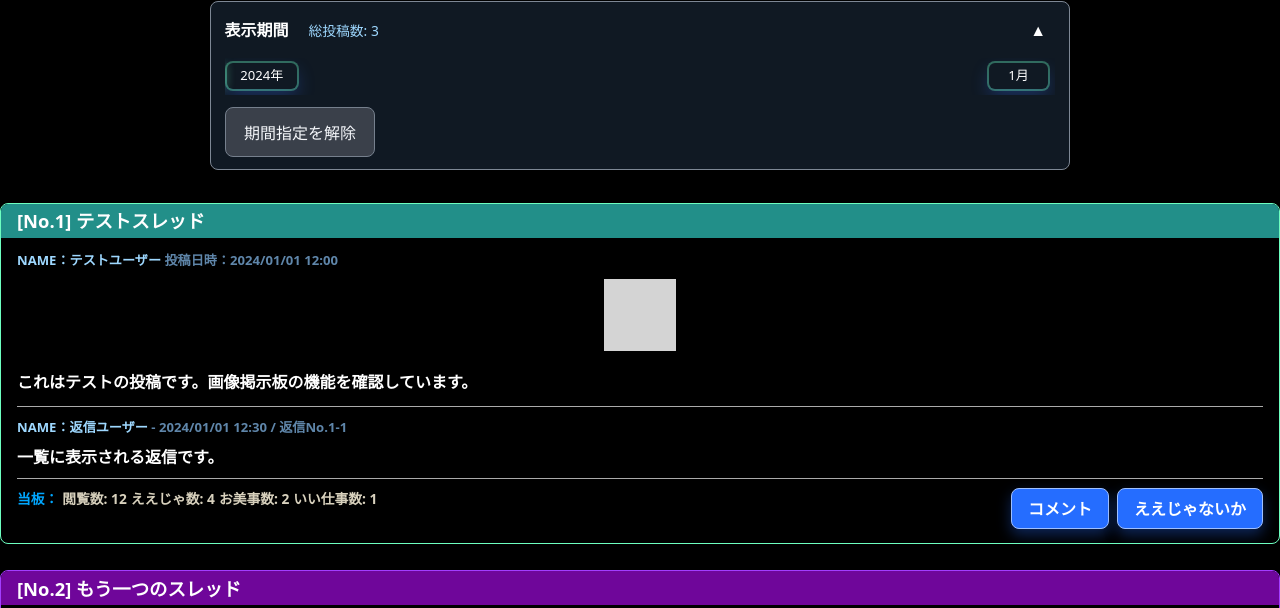
HomePage › uses the same required name style in the inline eejanaika form
Click the 1st button "ええじゃないか". click: click(1190, 508)
box: [1117, 488, 1263, 529]
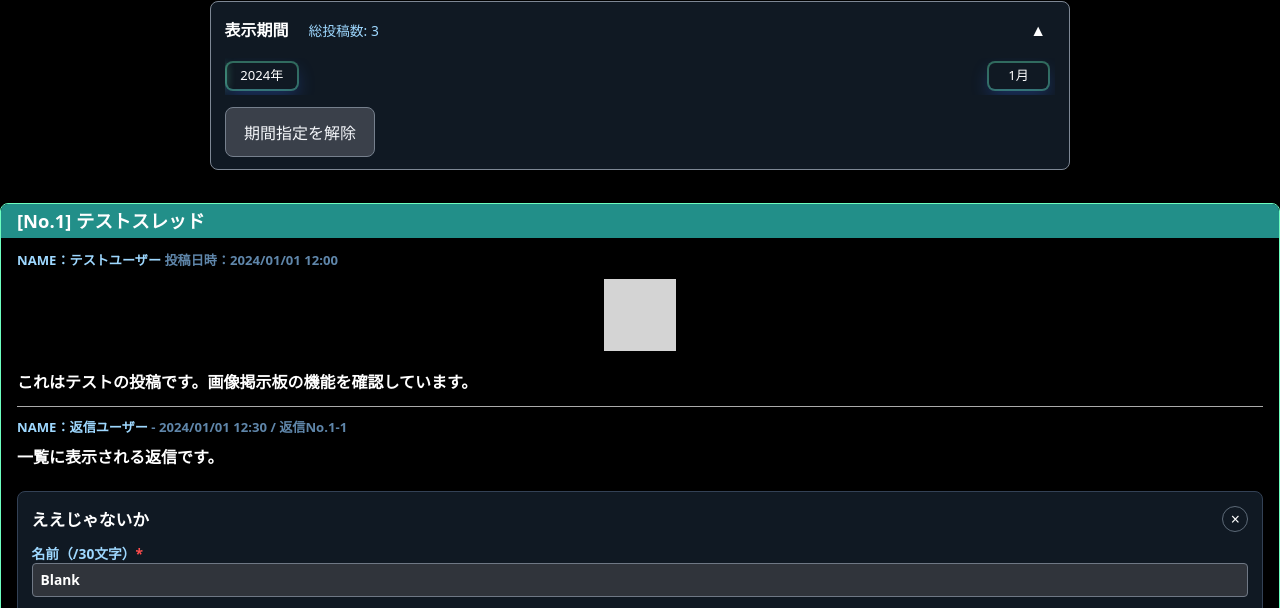
expect the text "名前（/30文字）" is shown: met, box [32, 544, 136, 563]
